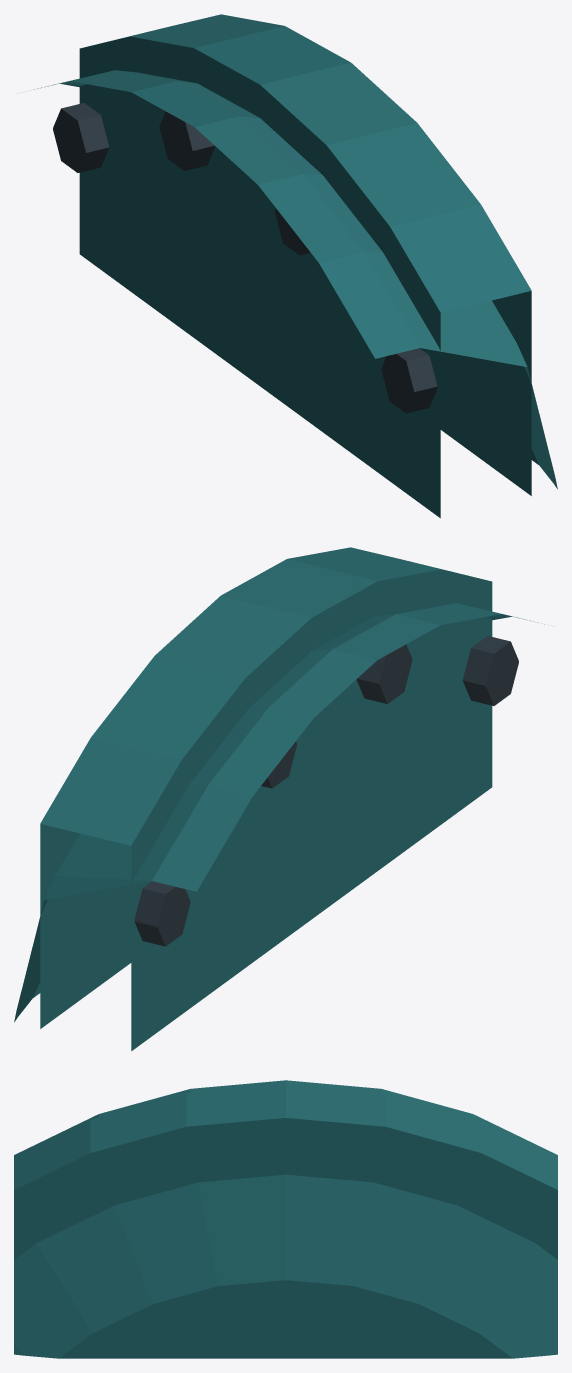
The model's file is cell_51.obj.
3 renders of one model, top to bottom at view 1: azimuth 30°, elevation 25°; view 2: azimuth 150°, elevation 25°; view 3: azimuth 270°, elevation 25°, orthographic. The views are drawn at different scales.
Bounding box in the file's own units: 0.3098 × 0.4606 × 1.
